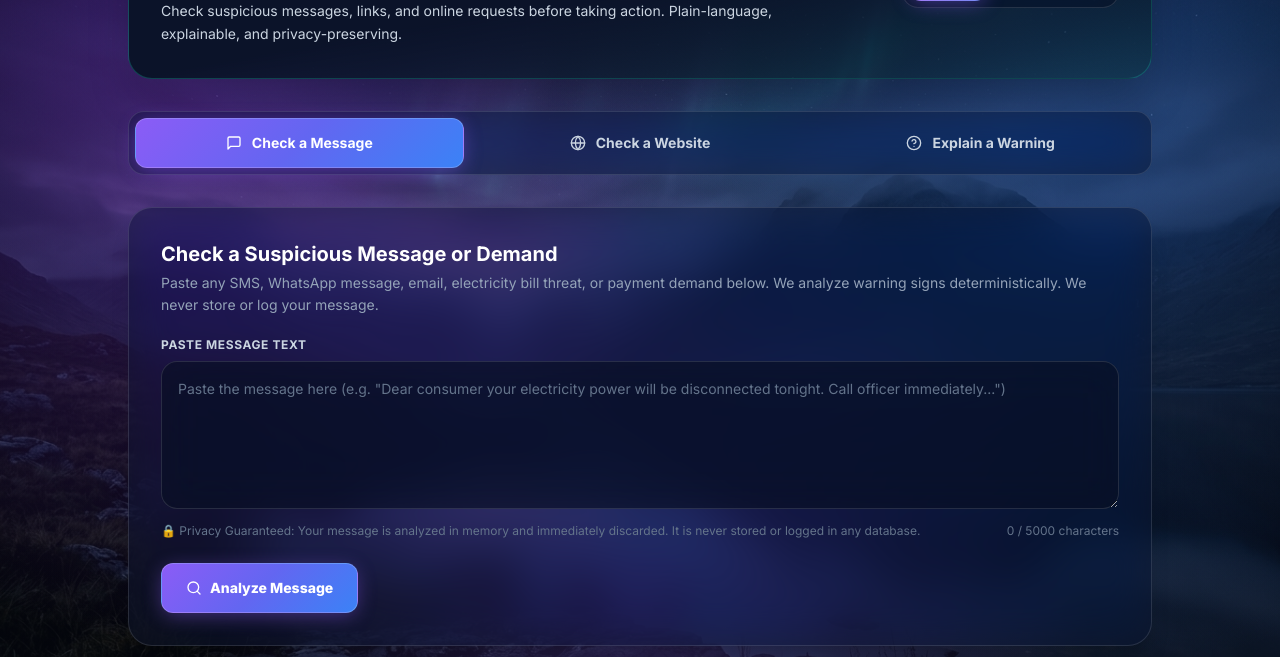
Scenario: Senior Safety Shield — Frontend & Dashboard Integration › SafetyShieldPage Component › Check a Message: validates empty input with clear error message
(page scrolled)
Click the button "Analyze Message" at coordinates (260, 588), box [161, 563, 358, 613]
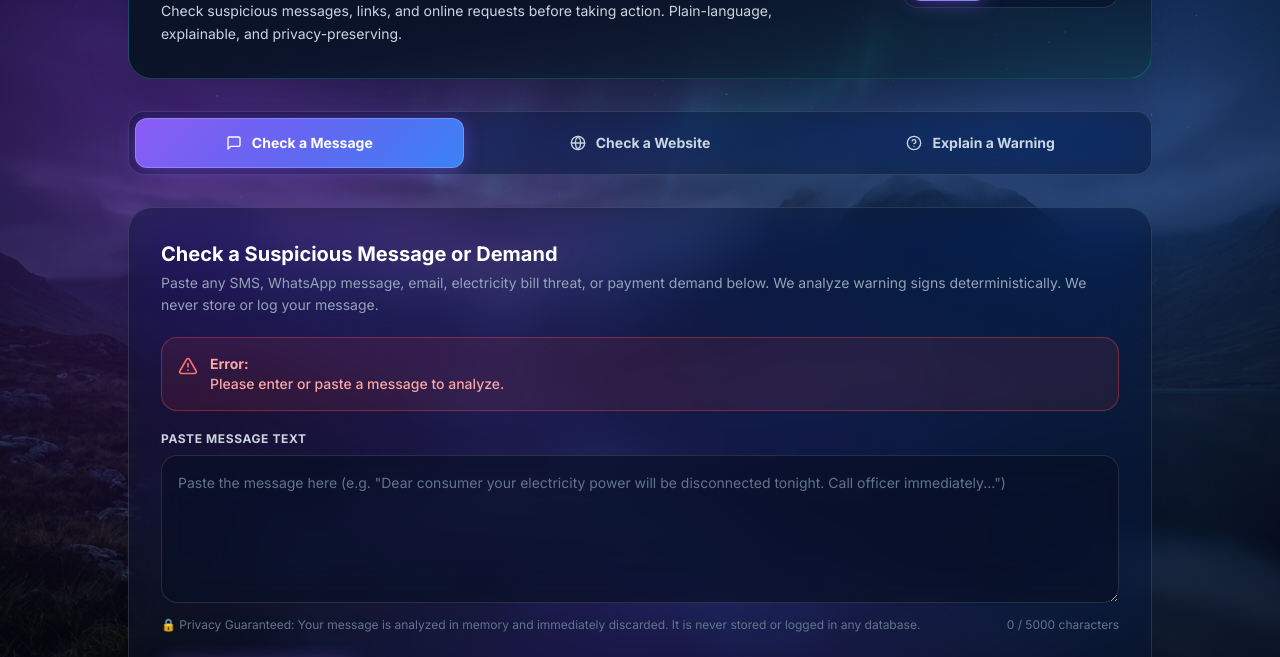
Expected: the message "Error: Please enter or paste a message to analyze." is shown, [161, 337, 1119, 411]
Expected: the text "Please enter or paste a message to analyze." is shown, [210, 374, 504, 394]
